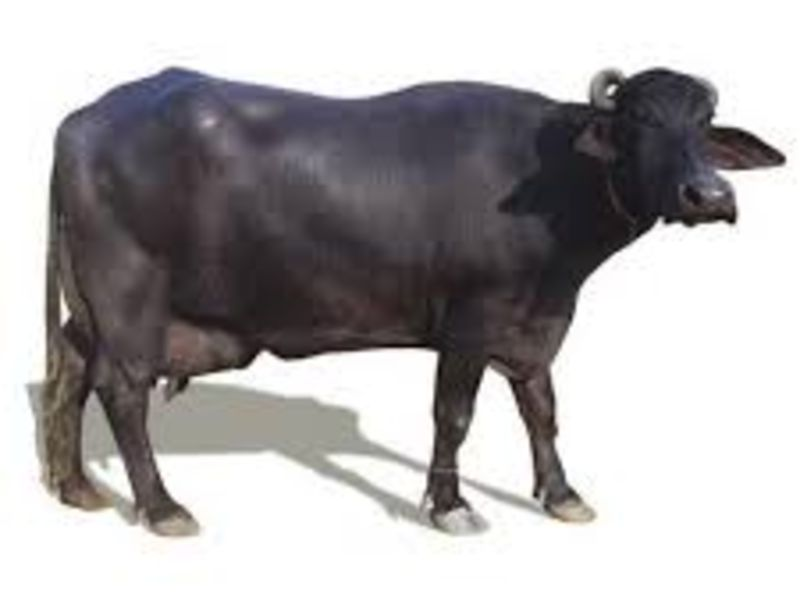buffalo: (37, 43, 785, 543)
